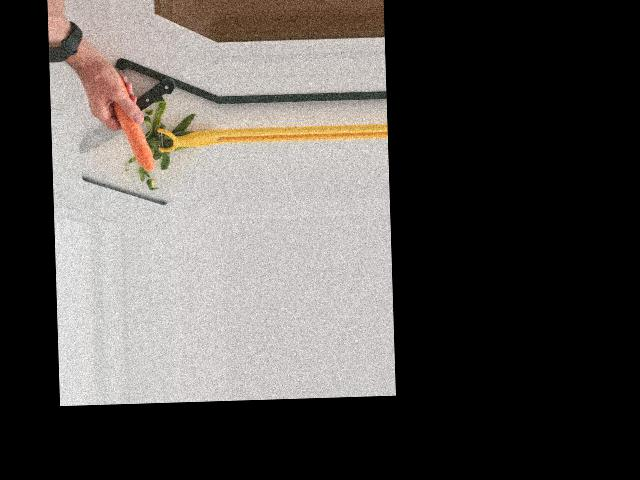carrot: (110, 72, 154, 171)
